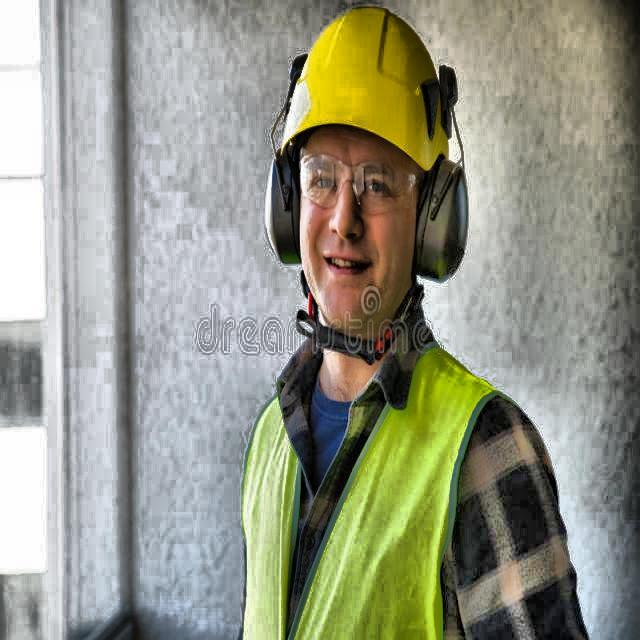person: (239, 0, 558, 640)
